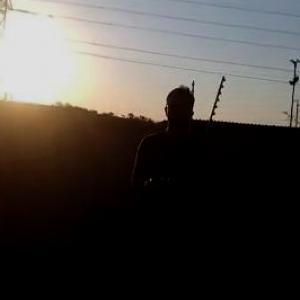follow: (125, 79, 210, 299)
